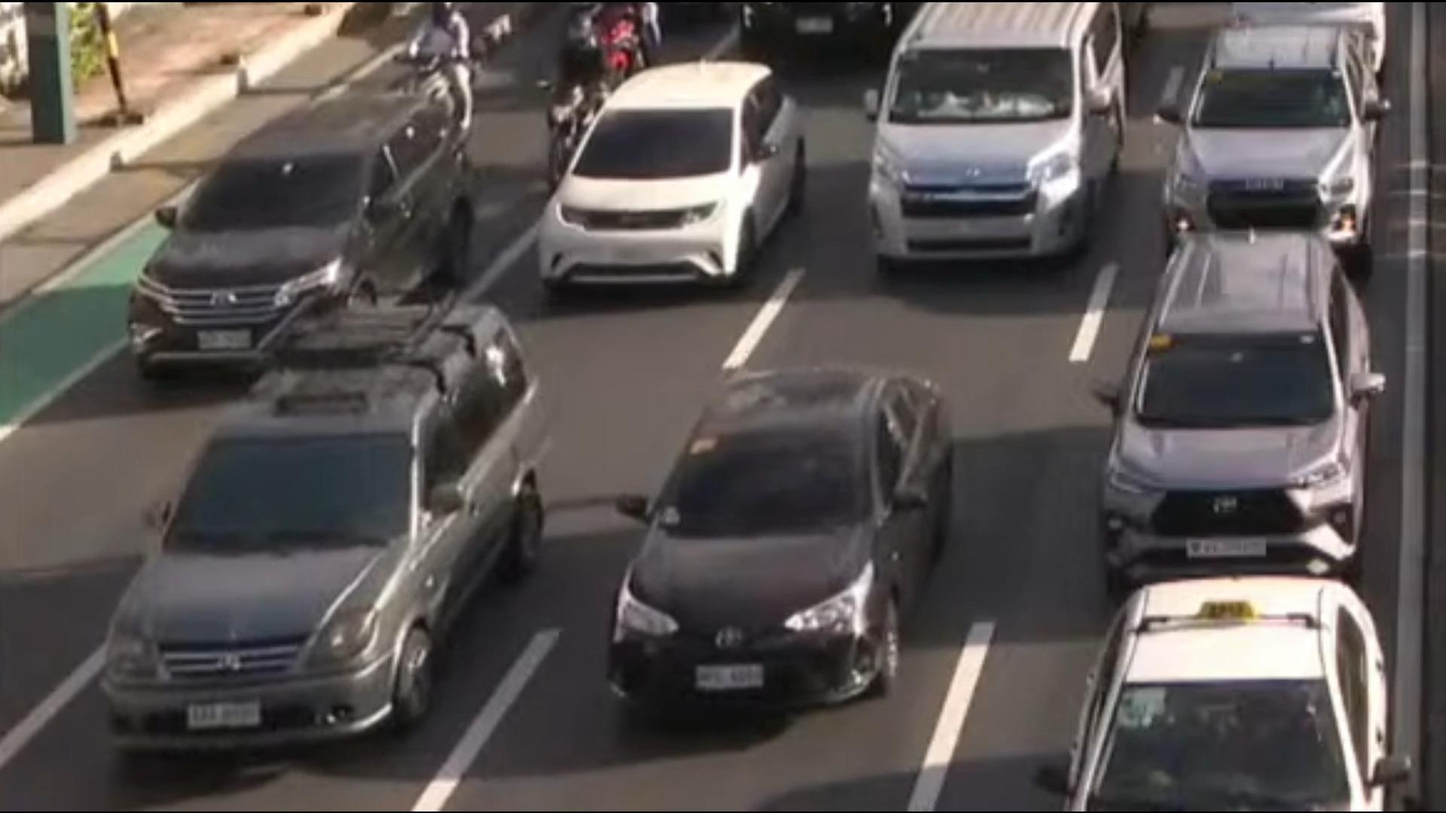Motorcycle: (548, 0, 633, 192), (397, 0, 493, 162)
SUV: (113, 303, 548, 747), (1083, 233, 1376, 578), (128, 88, 473, 363), (1167, 23, 1378, 250)
Sedan: (599, 380, 953, 708), (1051, 580, 1393, 813), (540, 64, 808, 295)
Van: (874, 0, 1124, 273)
